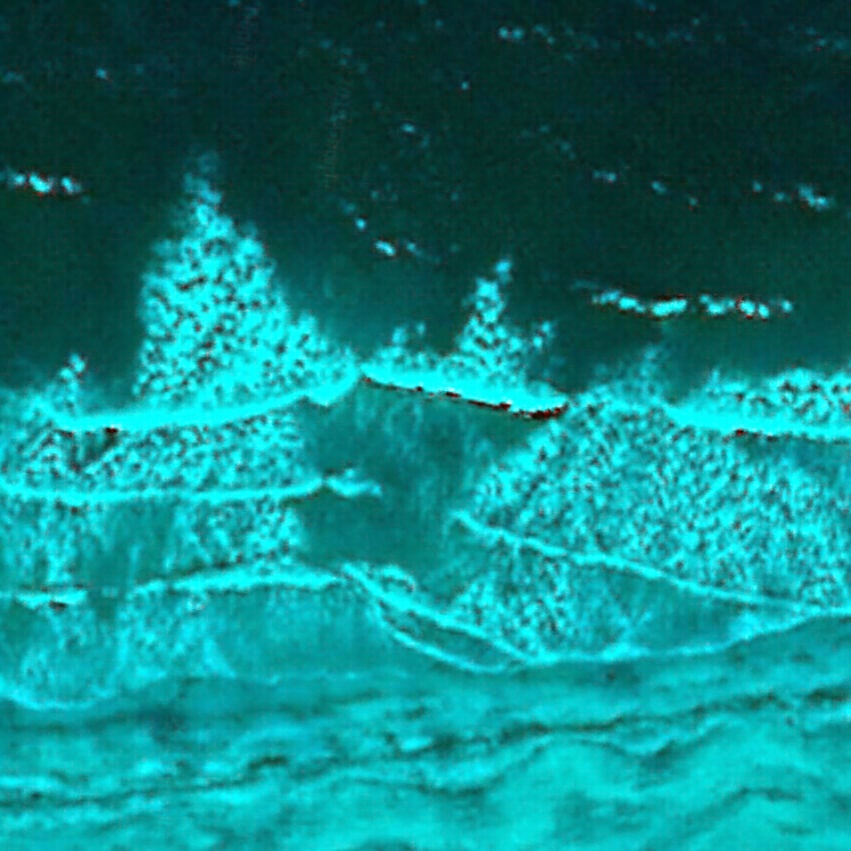rip_current: (278, 239, 570, 634)
